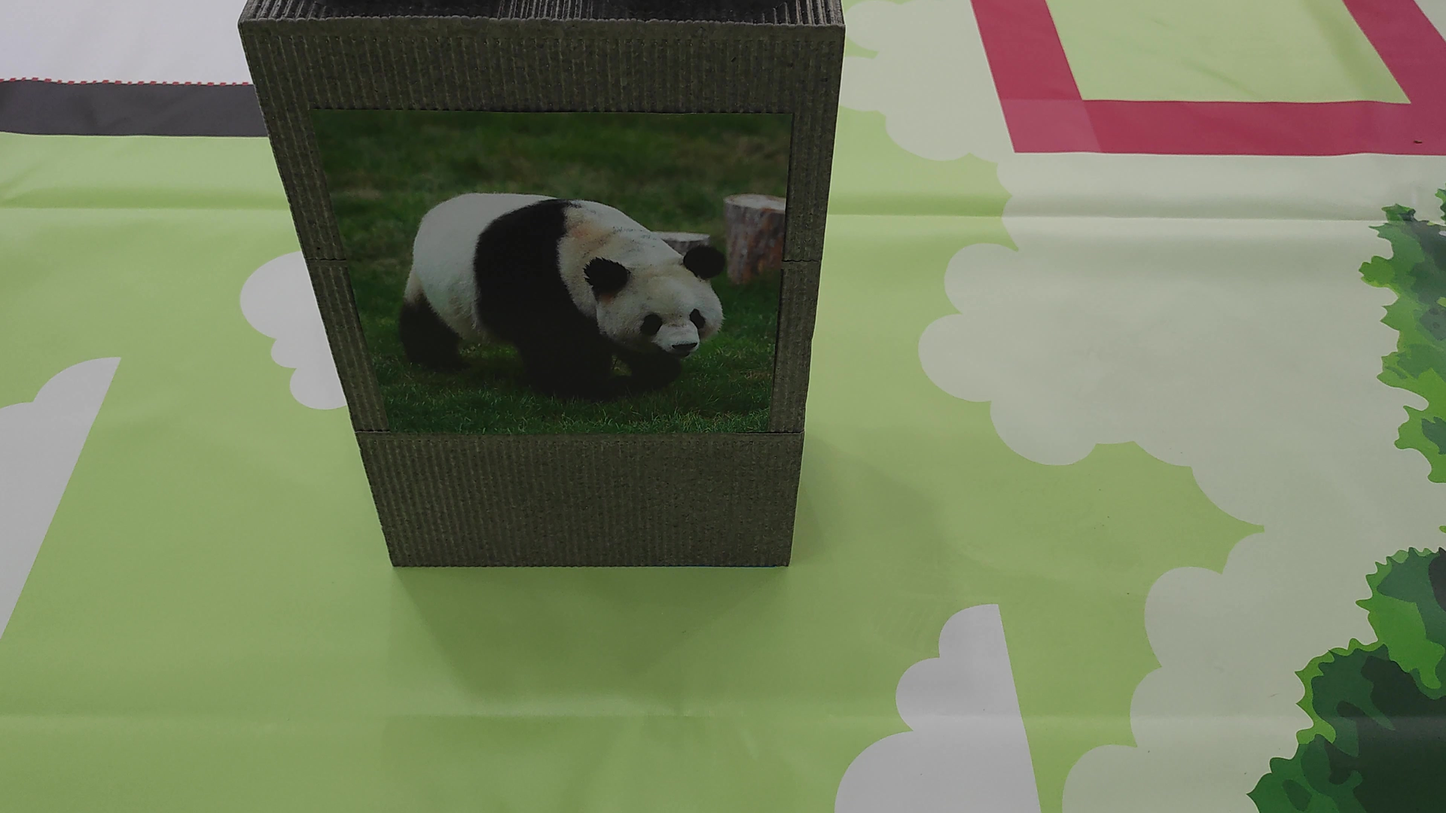panda: (374, 152, 725, 411)
